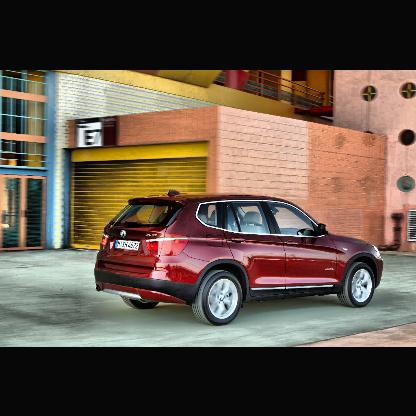BMW X3 SUV 2012: (95, 190, 385, 328)
